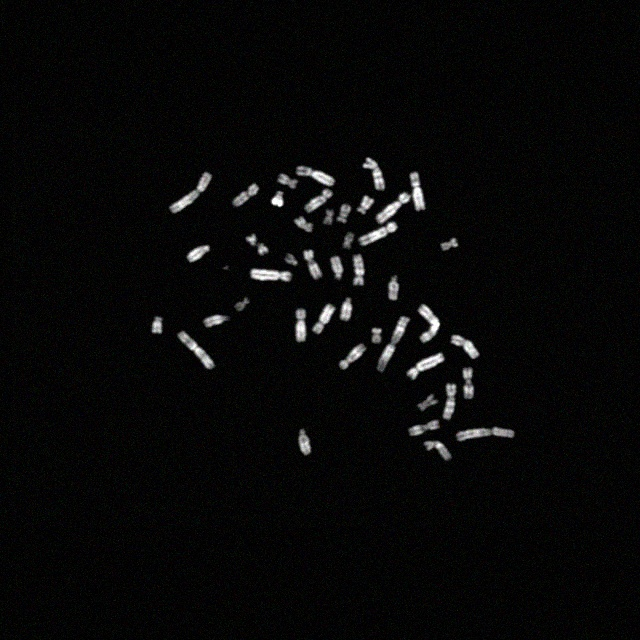chromosome: (377, 316, 409, 372), (169, 172, 211, 212), (178, 330, 215, 370), (376, 192, 410, 224), (407, 352, 445, 380), (359, 220, 398, 246), (418, 304, 440, 344), (456, 427, 514, 441), (304, 188, 334, 214), (297, 166, 335, 186), (363, 156, 385, 190), (339, 344, 367, 370), (312, 304, 336, 334), (232, 183, 260, 207), (451, 336, 479, 360), (409, 172, 425, 212), (424, 441, 452, 461), (304, 250, 322, 280), (410, 420, 440, 438), (443, 384, 457, 421), (251, 269, 291, 281), (186, 244, 209, 262), (298, 428, 312, 456), (353, 254, 365, 286), (205, 313, 230, 327), (418, 394, 438, 411), (296, 309, 306, 341), (464, 367, 474, 399), (358, 195, 374, 215), (388, 276, 400, 300), (331, 256, 343, 280), (295, 216, 313, 232), (337, 204, 351, 224), (278, 174, 297, 188), (340, 298, 352, 320), (152, 316, 163, 334), (284, 252, 298, 266), (235, 297, 249, 311), (442, 238, 458, 250), (272, 192, 284, 206), (372, 328, 382, 344), (344, 232, 354, 248), (324, 209, 334, 225), (257, 242, 268, 255), (246, 234, 256, 246)
